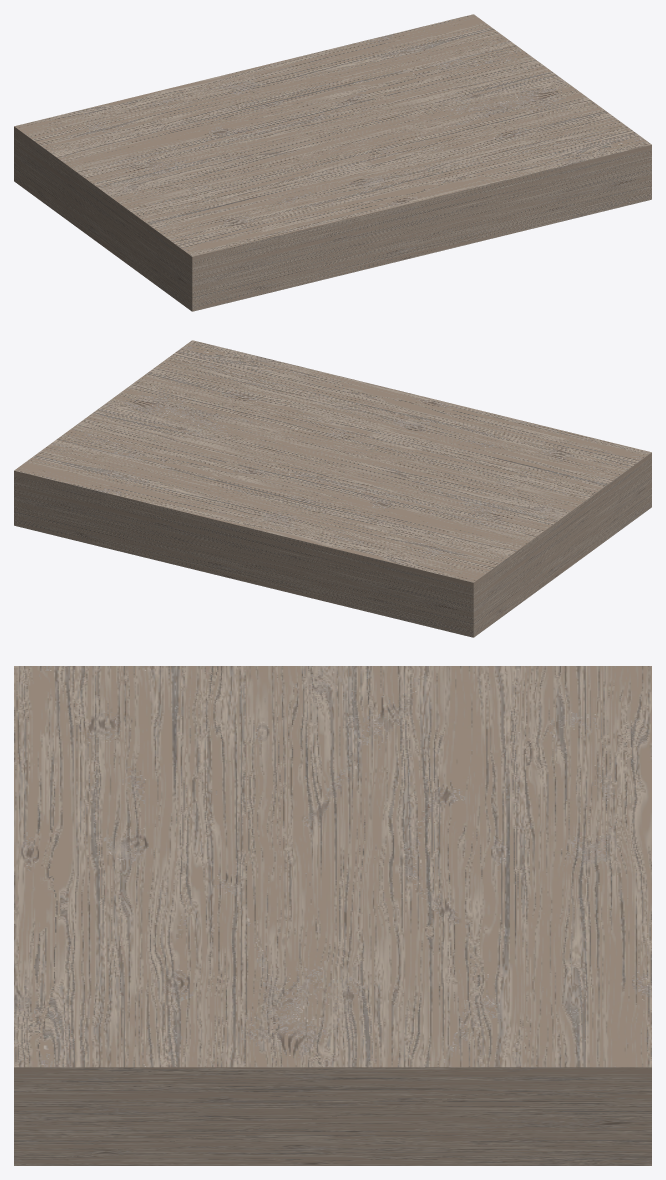
Rendered from si_pallet.DAE.
3 renders of one model, top to bottom at view 1: azimuth 30°, elevation 25°; view 2: azimuth 150°, elevation 25°; view 3: azimuth 270°, elevation 25°, orthographic. The views are drawn at different scales.
Visible parts, largest first — view 1: Colmesh-1; view 2: Colmesh-1; view 3: Colmesh-1.
Boxes of the visible parts, box(x1,y1,x2,y2) form: Colmesh-1: box(14, 14, 651, 311); Colmesh-1: box(14, 340, 651, 637); Colmesh-1: box(14, 666, 651, 1165).
Bounding box in the file's own units: 120 × 80.88 × 13.77.
